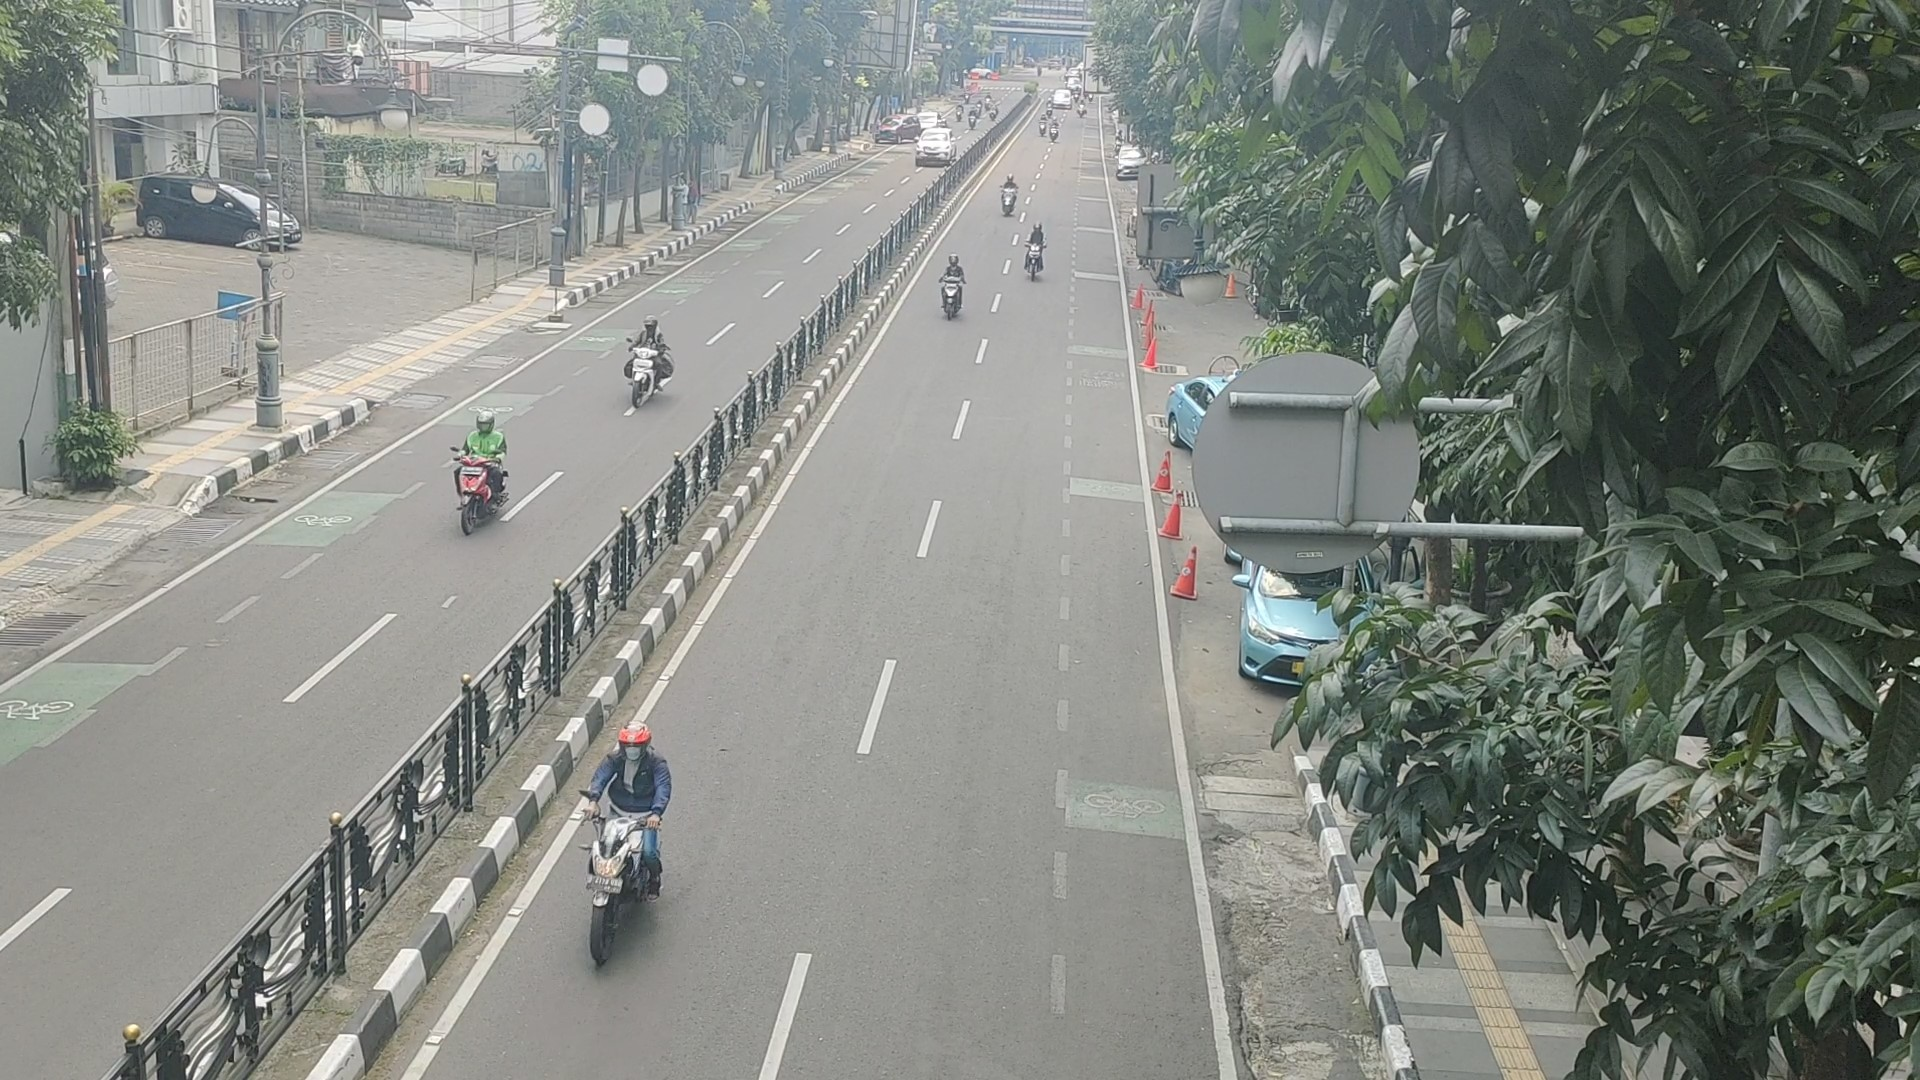mobil: (914, 127, 956, 167)
motor: (574, 720, 673, 978), (448, 407, 512, 538), (622, 314, 675, 417), (936, 255, 971, 328), (1021, 219, 1051, 286), (997, 173, 1021, 224)
